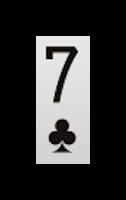7C: (39, 41, 84, 159)
